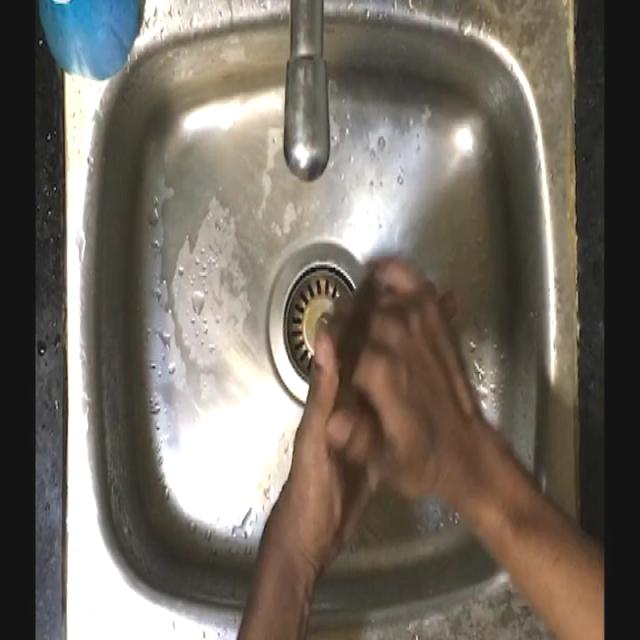step_5: (281, 247, 473, 564)
